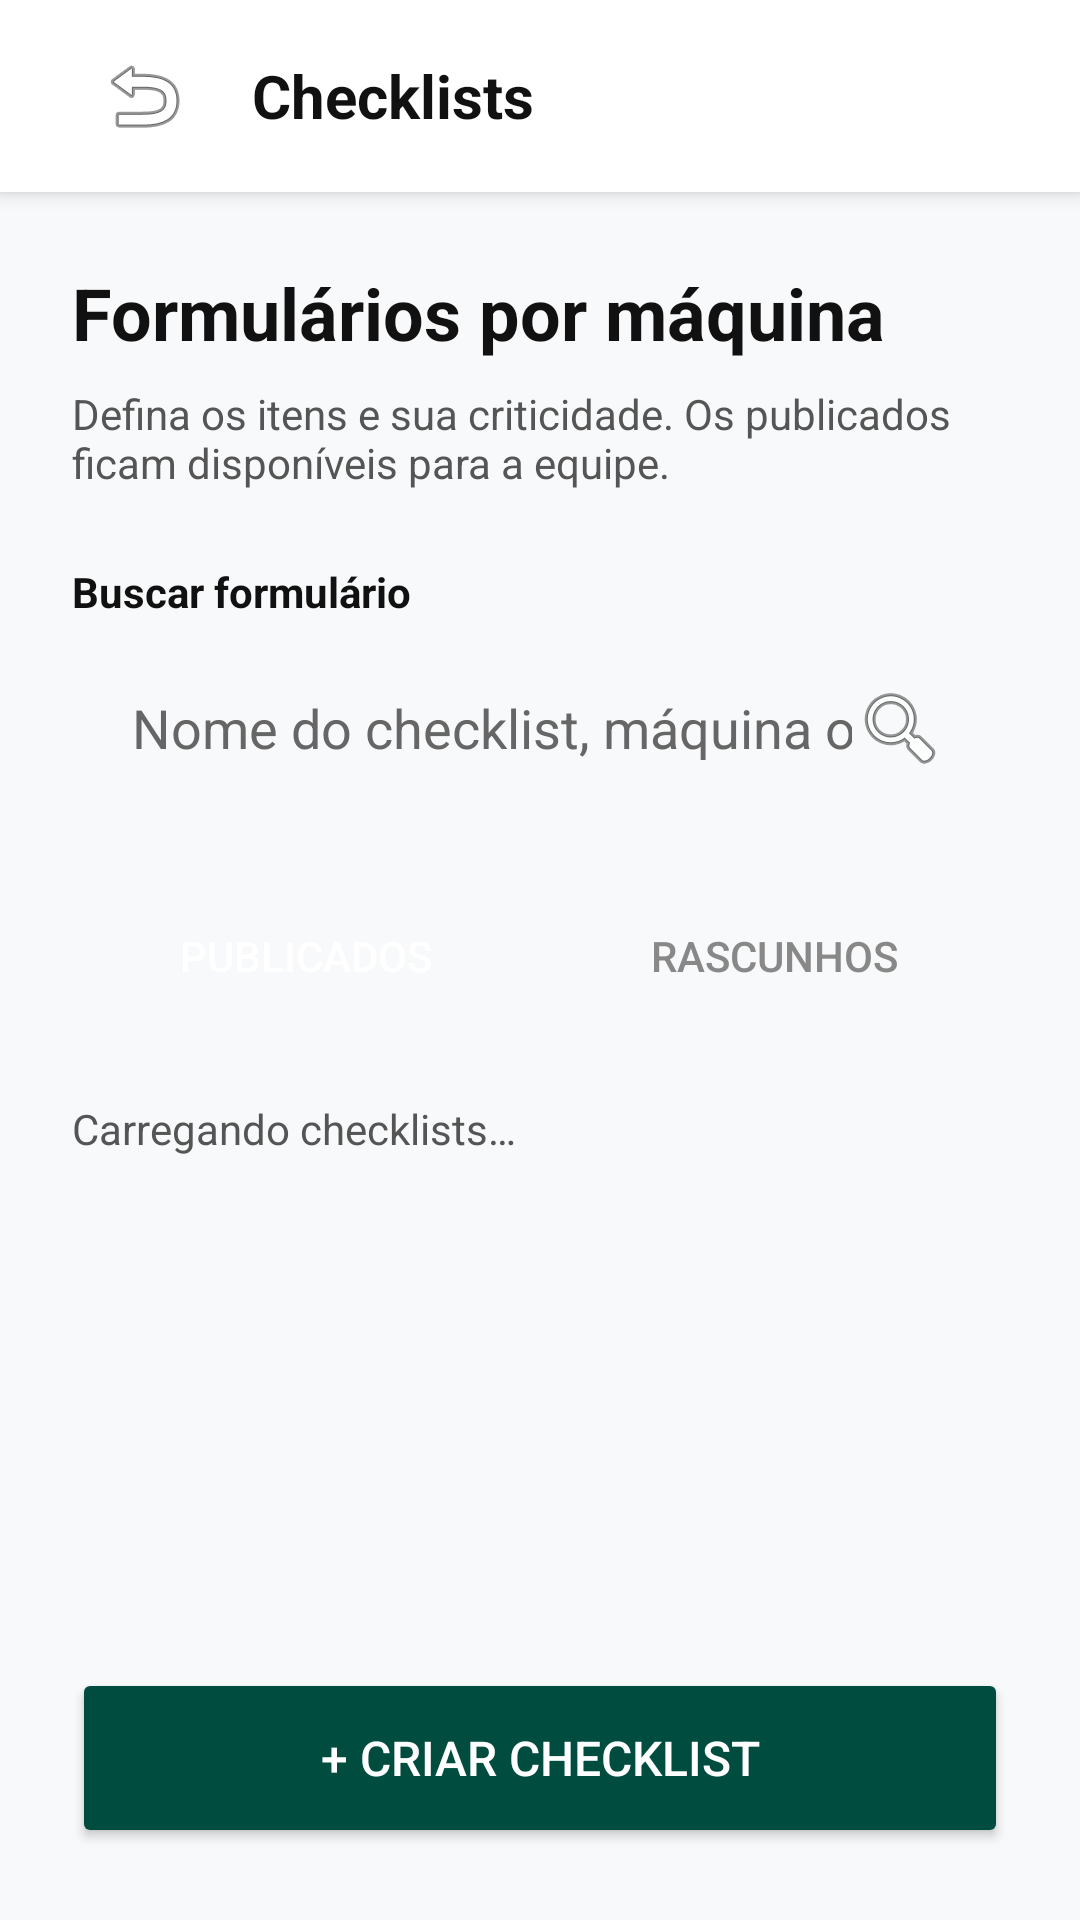

Icons on this 1080×1920 Android screen, each with its box as (x1, y1, x2, y2):
Voltar: (111, 65, 180, 128)
